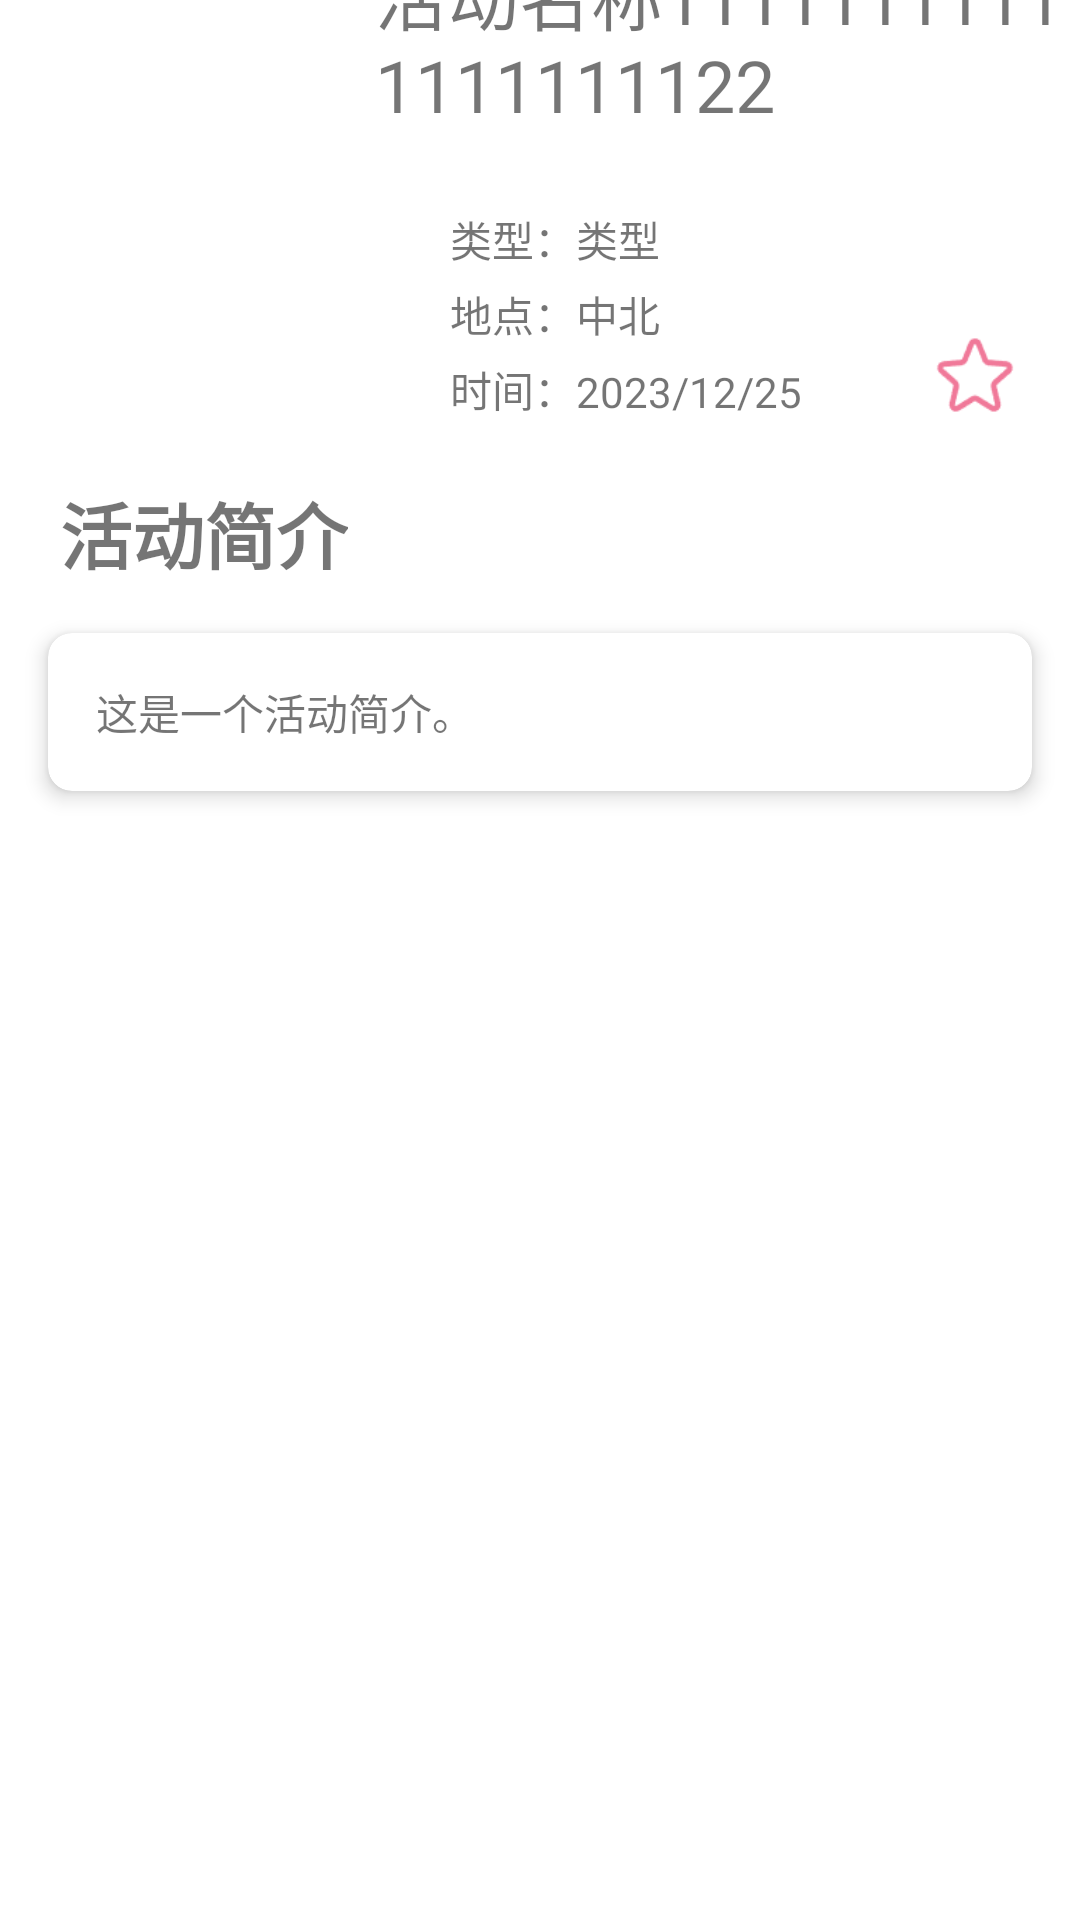

Where to tap for icons on this 1080w x 1920h app screen, as (x=x, y=y):
collect: (x=975, y=375)
